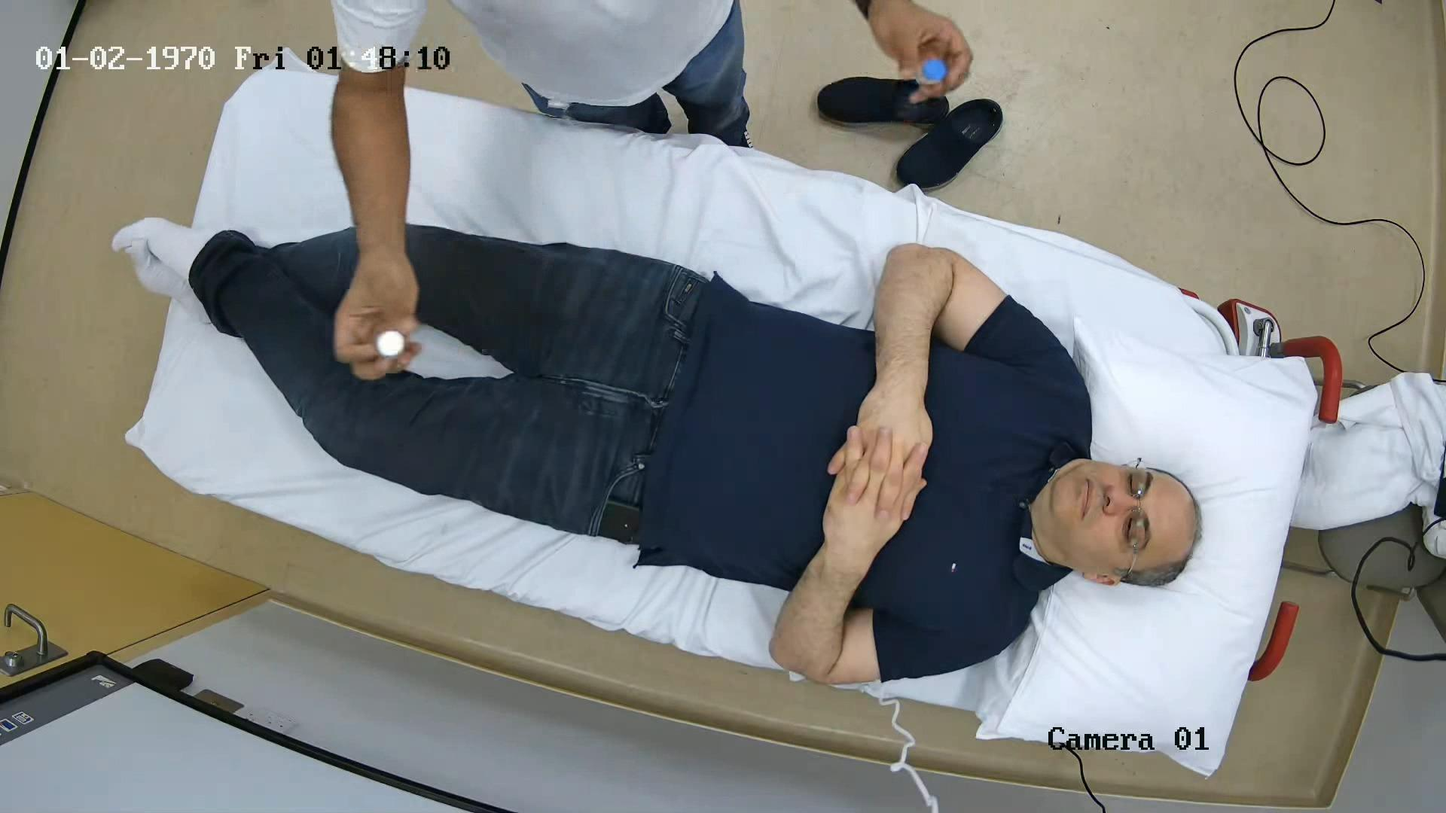augmentin: (375, 331, 405, 356)
bed: (127, 70, 1339, 775)
cefazolin: (917, 59, 947, 84)
patient: (190, 226, 1199, 684)
